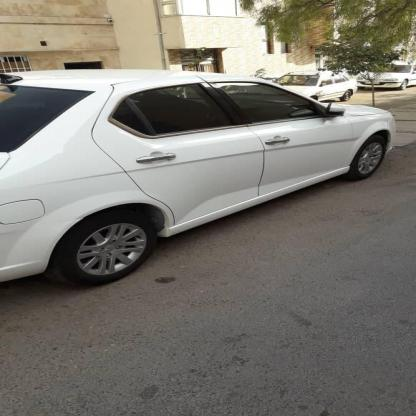Car: (0, 72, 416, 277), (264, 66, 362, 107), (352, 66, 416, 90)
